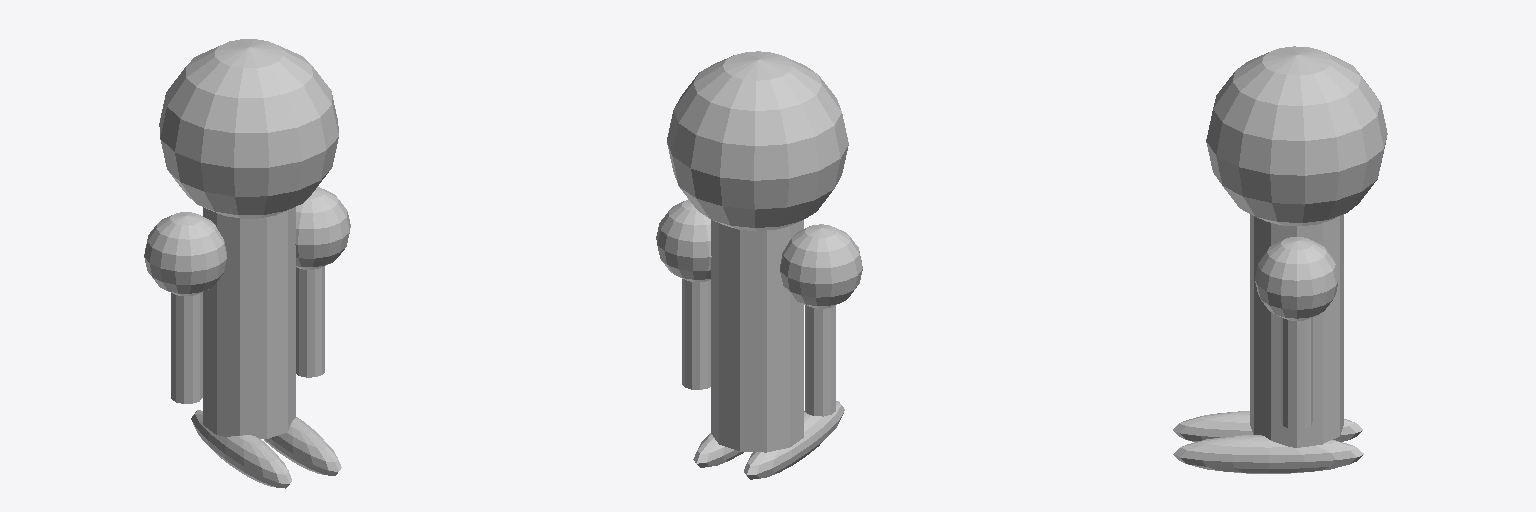
File: guyofrah.obj
3 renders of one model, left to right at view 1: azimuth 30°, elevation 25°; view 2: azimuth 150°, elevation 25°; view 3: azimuth 270°, elevation 25°, orthographic.
Parts seen in each view (by area): view 1: Sphere.002, Cylinder, Sphere, Sphere.001, Cylinder.001, Cylinder.002, Sphere.003, Sphere.004; view 2: Sphere.002, Cylinder, Sphere, Sphere.001, Cylinder.001, Cylinder.002, Sphere.003, Sphere.004; view 3: Sphere.002, Cylinder, Sphere.001, Sphere.004, Cylinder.002, Sphere.003.
Boxes of the visible parts, x1,y1,x2,y2 form: Sphere.002: [159, 39, 338, 218]; Cylinder: [203, 207, 295, 438]; Sphere: [144, 212, 226, 295]; Sphere.001: [295, 187, 350, 269]; Cylinder.001: [171, 292, 202, 403]; Cylinder.002: [296, 266, 324, 377]; Sphere.003: [191, 410, 291, 488]; Sphere.004: [264, 417, 341, 475]; Sphere.002: [667, 51, 848, 231]; Cylinder: [711, 220, 803, 452]; Sphere: [780, 224, 862, 308]; Sphere.001: [656, 199, 711, 281]; Cylinder.001: [805, 305, 835, 416]; Cylinder.002: [682, 279, 710, 389]; Sphere.003: [744, 401, 844, 479]; Sphere.004: [693, 433, 743, 467]; Sphere.002: [1206, 46, 1387, 225]; Cylinder: [1250, 214, 1343, 447]; Sphere.001: [1255, 237, 1338, 320]; Sphere.004: [1173, 435, 1363, 473]; Cylinder.002: [1281, 317, 1312, 428]; Sphere.003: [1173, 411, 1362, 441].
Size of the model in its own units: 2.73 by 5.38 by 2.6.